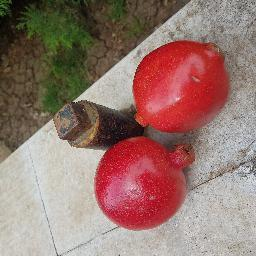Good_pomegranate: (97, 139, 193, 228), (136, 43, 228, 131)
